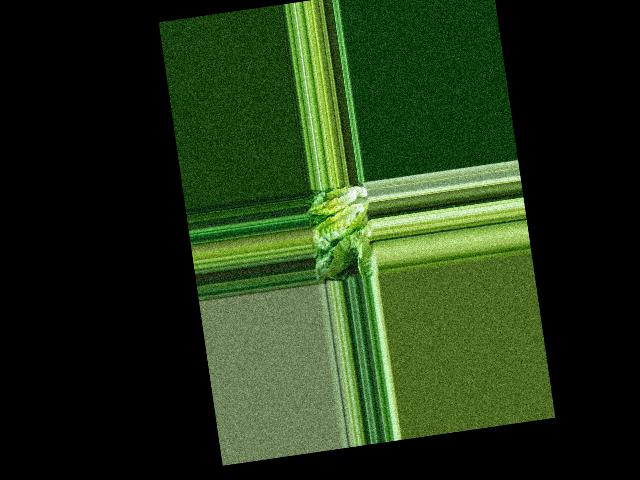lettuce: (308, 183, 375, 252)
